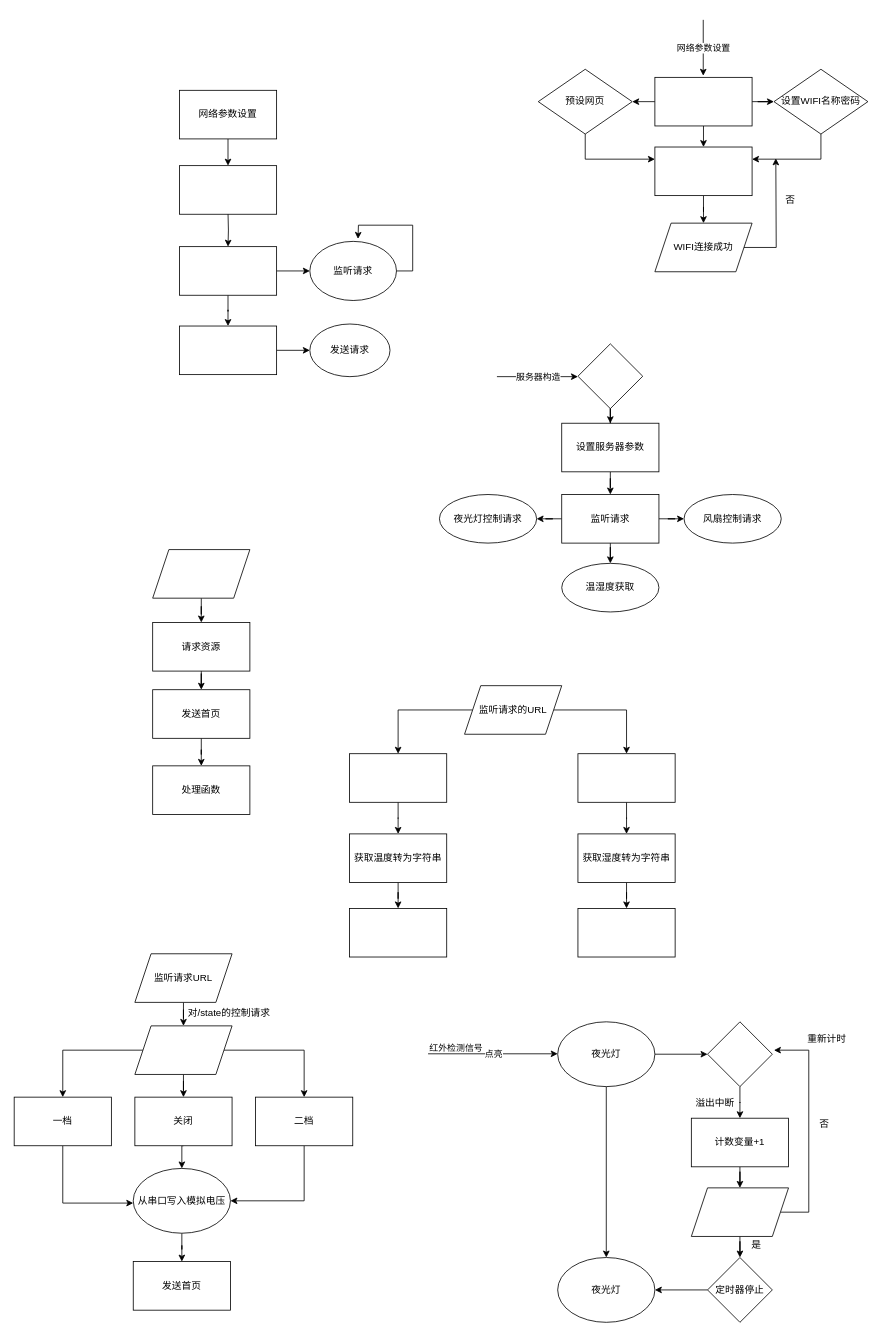
Image size: 882x1337. Some labels were removed from this diagram. Here are the shapes that lost their labels. From the top down, the centre of each, then its label:
At (x=703, y=101): "串口初始化".
At (x=228, y=189): "连接无线局域网".
At (x=703, y=171): "连接WIFI".
At (x=228, y=270): "构造服务器".
At (x=228, y=350): "网页显示".
At (x=610, y=376): "准备工作".
At (x=201, y=573): "连接请求监听".
At (x=398, y=777): "/temperature".
At (x=626, y=777): "/humidity".
At (x=398, y=932): "发送温度字符串".
At (x=626, y=932): "发送湿度字符串".
At (x=183, y=1049): "检查请求报文".
At (x=739, y=1054): "定时器启动".
At (x=740, y=1211): "计数变量=指定值".
